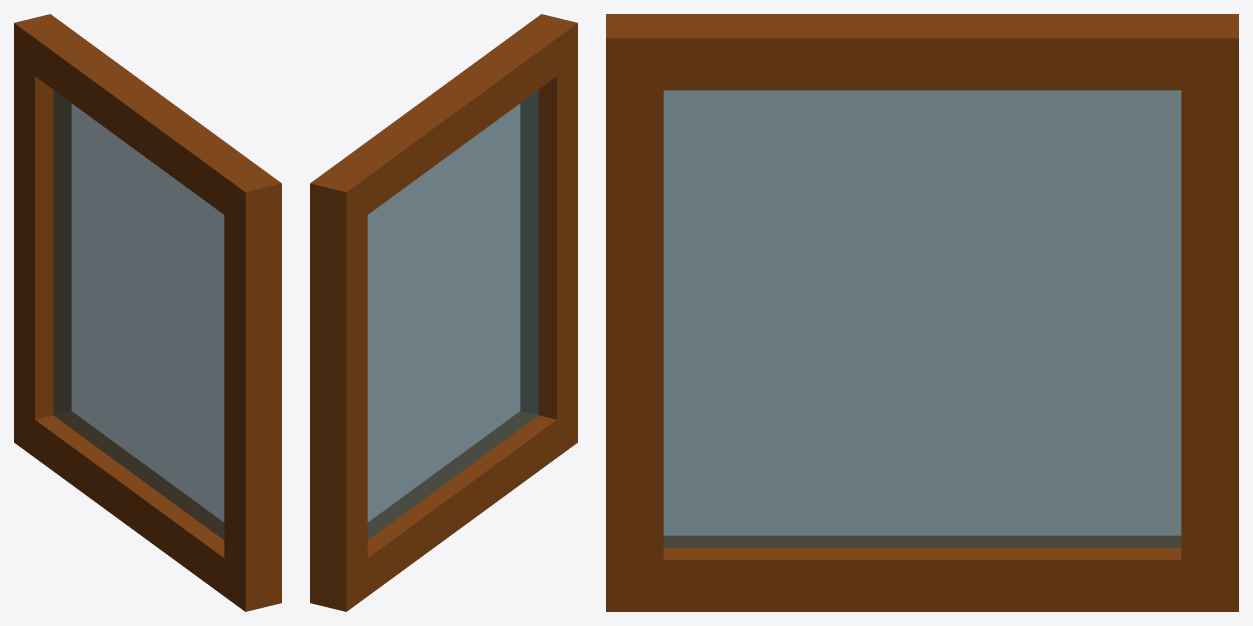
The model's file is Windows.obj.
3 views of the same model, side by side, from view 1: azimuth 30°, elevation 25°; view 2: azimuth 150°, elevation 25°; view 3: azimuth 270°, elevation 25° (orthographic). The views are drawn at different scales.
Parts seen in each view (by area): view 1: Cube.002_Cube.010, Plane_Plane.001; view 2: Cube.002_Cube.010, Plane_Plane.001; view 3: Plane_Plane.001, Cube.002_Cube.010.
Part boxes in pixels (x1=…): Cube.002_Cube.010: x1=14, y1=14, x2=281, y2=611; Plane_Plane.001: x1=53, y1=90, x2=224, y2=539; Cube.002_Cube.010: x1=310, y1=14, x2=577, y2=611; Plane_Plane.001: x1=367, y1=90, x2=538, y2=539; Plane_Plane.001: x1=663, y1=90, x2=1181, y2=547; Cube.002_Cube.010: x1=606, y1=14, x2=1238, y2=611.
Bounding box in the file's own units: 0.2 × 2.2 × 2.2.
